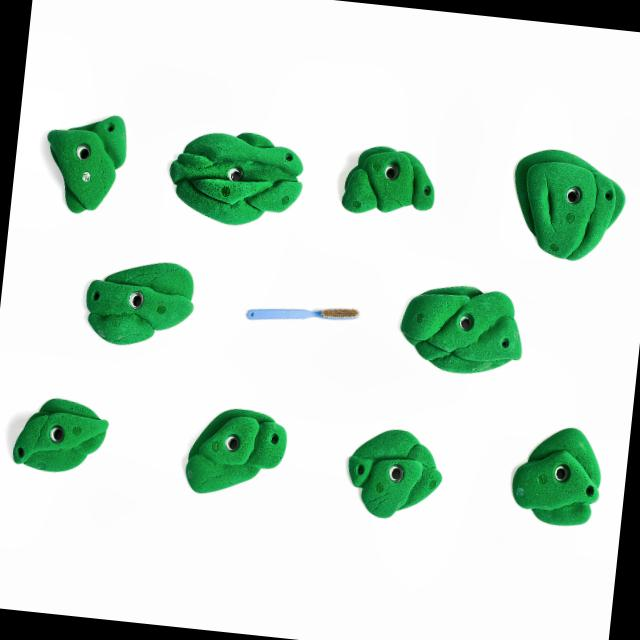Hold: (502, 142, 628, 271), (164, 124, 302, 230), (399, 273, 528, 378), (78, 253, 204, 354), (500, 417, 608, 531), (182, 398, 292, 502), (338, 425, 451, 523), (38, 110, 128, 218), (338, 132, 442, 224), (12, 400, 114, 474)
